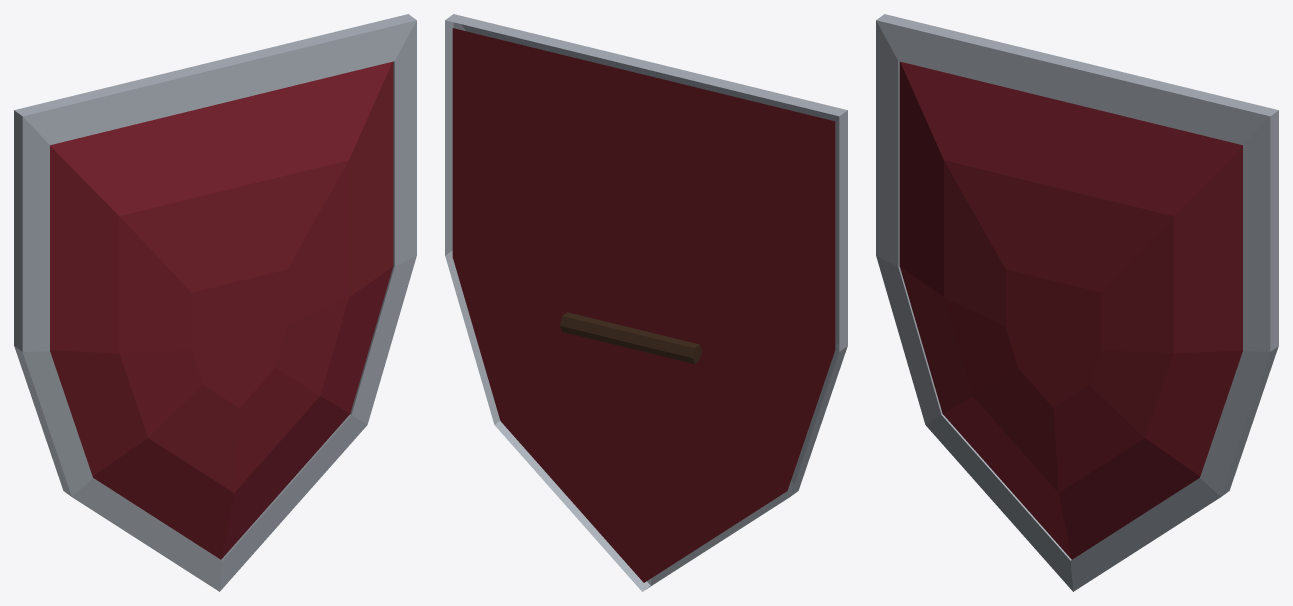
Rendered from g-shield-heater.glb.
The picture shows the model from 3 angles, left to right: view 1: azimuth 30°, elevation 25°; view 2: azimuth 150°, elevation 25°; view 3: azimuth 330°, elevation 25°; orthographic projection.
Parts seen in each view (by area): view 1: g-shield-heater; view 2: g-shield-heater; view 3: g-shield-heater.
Part boxes in pixels (<box>): g-shield-heater: <box>14,14,416,591</box>; g-shield-heater: <box>445,14,847,591</box>; g-shield-heater: <box>876,14,1278,591</box>.
Size of the model in its own units: 0.5356 by 0.6798 by 0.1045.
